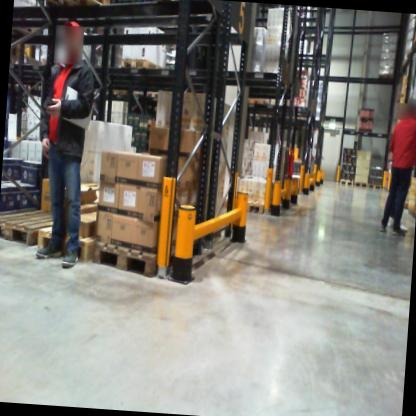pallet: (94, 218, 204, 285), (36, 199, 124, 269), (0, 190, 88, 255), (114, 54, 168, 81), (33, 0, 112, 18), (234, 189, 276, 219), (245, 91, 278, 126), (10, 48, 49, 77), (144, 87, 166, 105), (375, 71, 398, 85), (351, 178, 368, 190), (337, 178, 354, 189), (367, 181, 383, 191), (407, 205, 414, 219)
